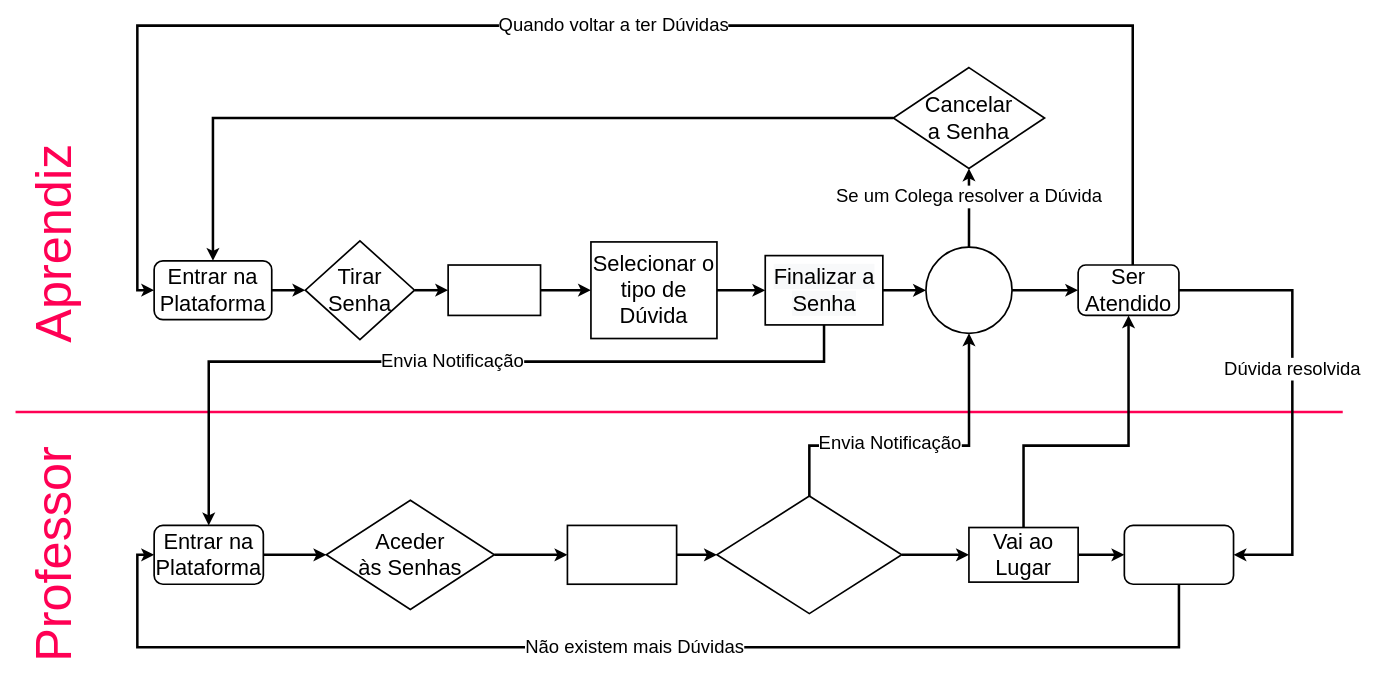
The diagram is 1375 pixels wide and 682 high, and some of its shapes have lost their labels. Here are the shapes that lost their labels. From the top down, the centre of each, then its label:
At point 494,290: "Iniciar Senha".
At point 968,290: "Esperar".
At point 621,554: "Ver as Dúvidas".
At point 809,554: "Seleciona a Senha".
At point 1178,554: "Fechar a Senha".
